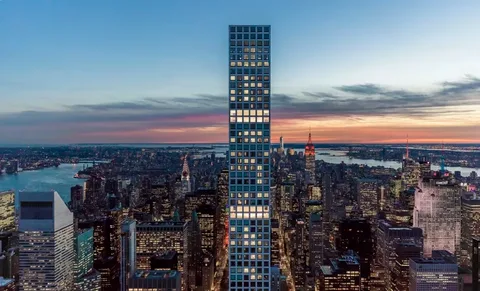high_rise_building: (226, 22, 274, 288)
